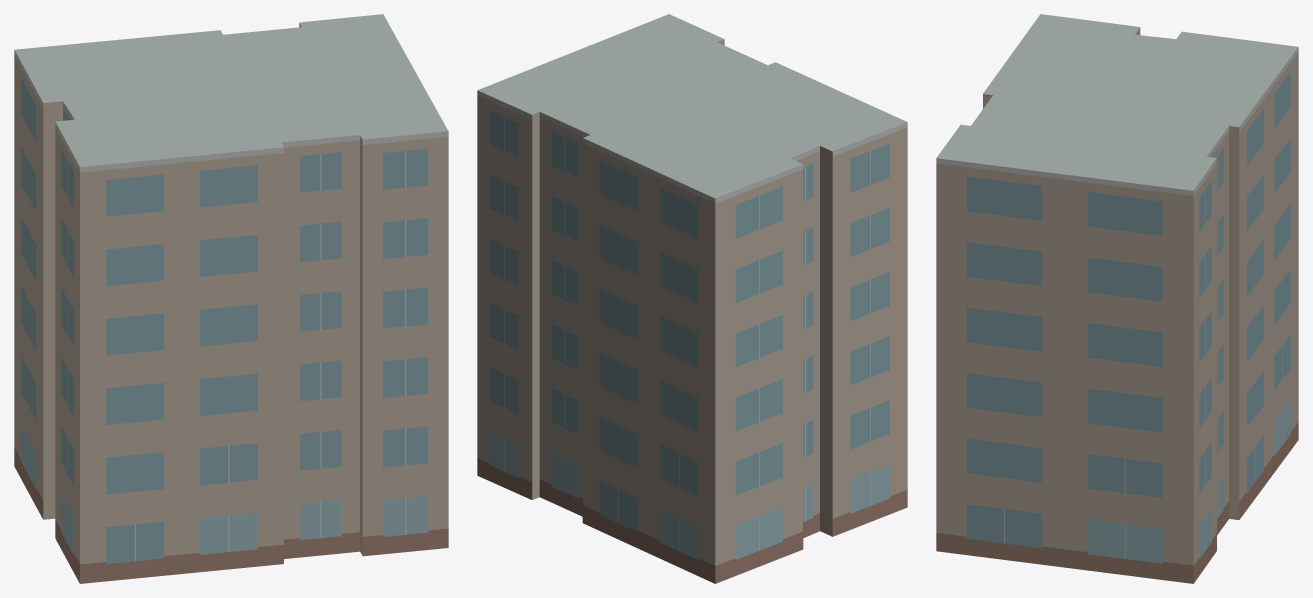
Rendered from survey-upis-32868124.glb.
3 renders of one model, left to right at view 1: azimuth 30°, elevation 25°; view 2: azimuth 150°, elevation 25°; view 3: azimuth 270°, elevation 25°, orthographic. The views are drawn at different scales.
Visible parts, largest first — view 1: survey-upis-32868124.tmp; view 2: survey-upis-32868124.tmp; view 3: survey-upis-32868124.tmp.
Boxes of the visible parts, x1,y1,x2,y2 form: survey-upis-32868124.tmp: (14, 14, 448, 583); survey-upis-32868124.tmp: (477, 14, 907, 583); survey-upis-32868124.tmp: (936, 14, 1298, 583).
Bounding box in the file's own units: 17.77 × 18.4 × 15.38.
